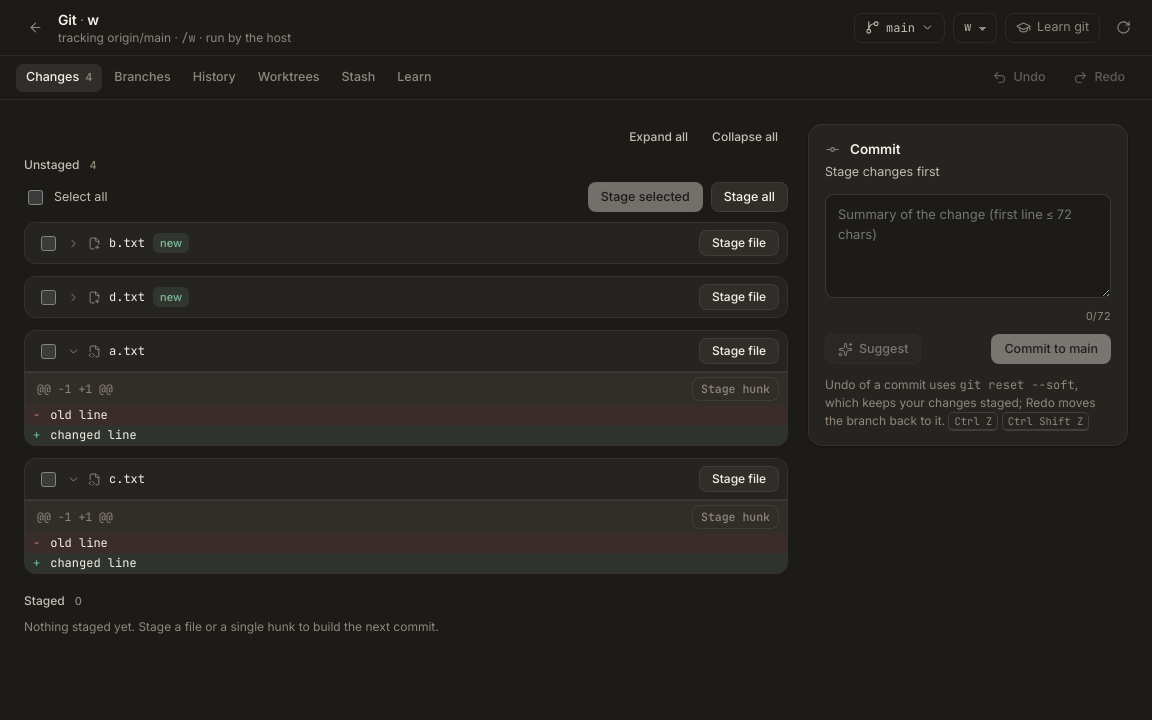
Test: new files in the Git view › say so when the host cannot show a new file
expect the text "b.txt" is shown: met, box [109,234,145,252]
Step 1. Click the button with aria-label "Show the new file b.txt" → {"x": 128, "y": 243}, box [63,231,193,255]
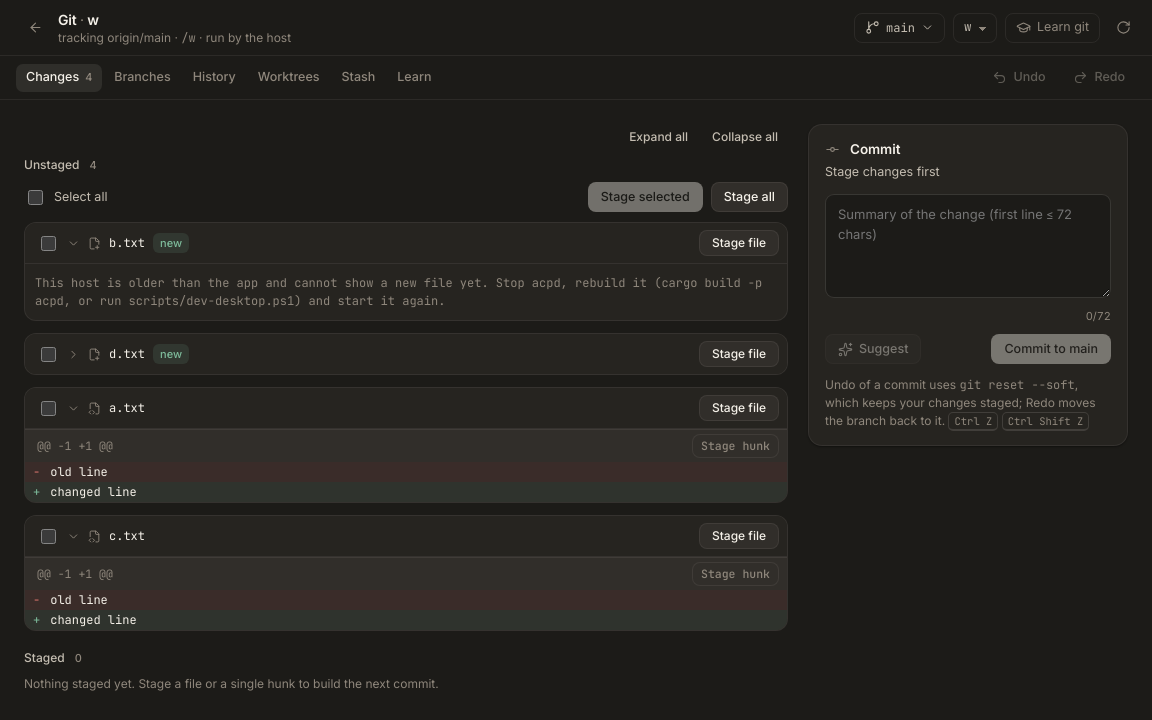
expect the text "rebuild it (cargo build -p acpd" is shown: met, box [35,275,762,309]
